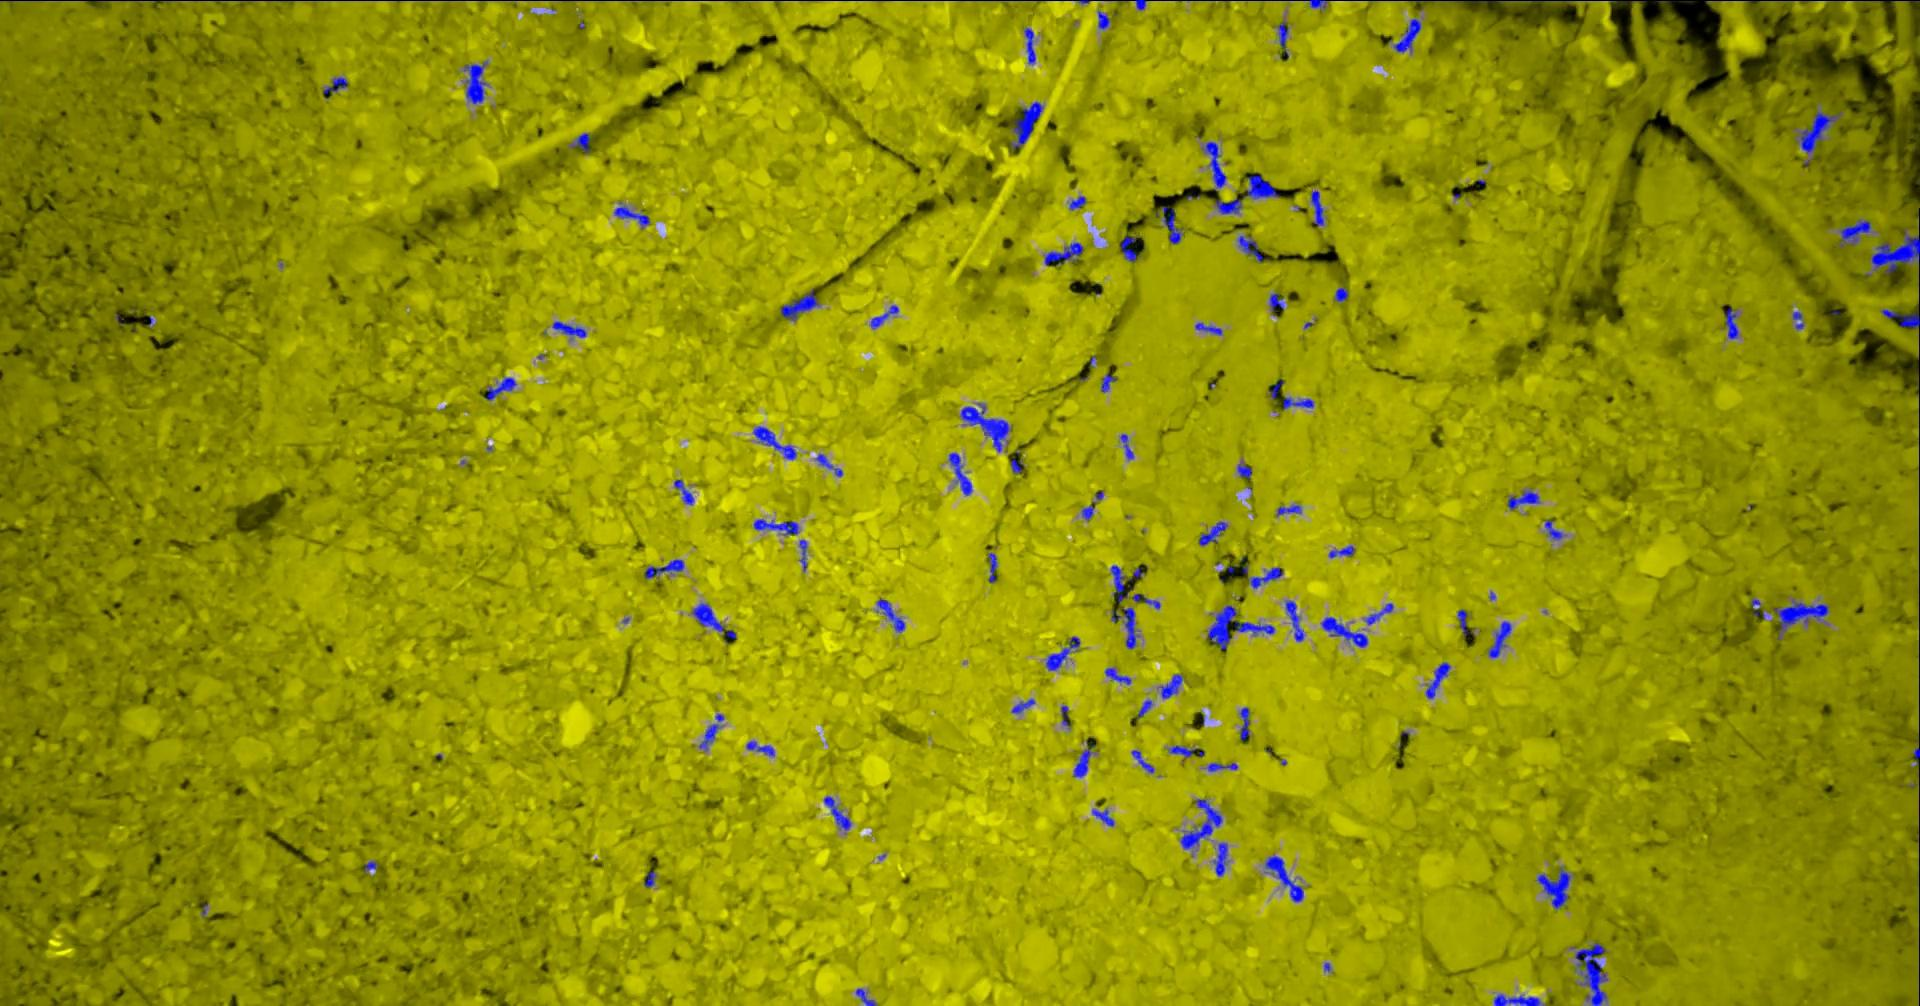ant: (1209, 605, 1276, 649), (963, 401, 1011, 451), (1775, 600, 1830, 639), (1873, 229, 1920, 273), (1182, 798, 1223, 848), (1576, 942, 1609, 1005), (1266, 855, 1305, 901), (1801, 111, 1843, 152), (1011, 102, 1044, 147), (695, 603, 738, 638), (1322, 616, 1369, 647), (1538, 868, 1572, 908), (756, 426, 797, 459), (782, 288, 820, 320), (1112, 607, 1140, 648), (1204, 141, 1227, 191), (1048, 636, 1081, 669), (950, 452, 974, 495), (466, 61, 489, 103), (877, 600, 905, 633), (825, 795, 852, 829), (615, 202, 651, 226), (1427, 662, 1451, 699), (701, 713, 725, 749), (1396, 18, 1422, 51), (1046, 243, 1084, 265), (1244, 174, 1280, 198), (1841, 218, 1872, 246), (1490, 621, 1512, 657), (1250, 567, 1285, 588), (1112, 565, 1133, 602), (1288, 600, 1305, 641), (1163, 205, 1182, 243), (1882, 309, 1920, 328), (646, 559, 684, 578), (1076, 741, 1095, 777), (488, 377, 518, 400), (756, 518, 800, 533), (1200, 521, 1228, 545), (1239, 235, 1263, 262), (872, 305, 900, 328), (817, 453, 844, 476), (1366, 602, 1396, 624), (1509, 490, 1542, 509), (1161, 674, 1183, 699), (324, 76, 349, 98), (1495, 993, 1542, 1005), (554, 321, 588, 337), (1133, 749, 1156, 772), (1215, 842, 1230, 876), (1121, 236, 1142, 260), (676, 479, 695, 504), (1025, 28, 1037, 64), (1312, 191, 1324, 225), (1106, 667, 1131, 683), (1217, 198, 1243, 213), (1134, 593, 1161, 608), (748, 741, 776, 754), (1726, 307, 1738, 338), (1093, 808, 1115, 826), (1170, 746, 1206, 756), (1284, 396, 1316, 408), (1545, 520, 1564, 539), (573, 133, 590, 152), (1330, 545, 1356, 558), (1241, 708, 1251, 741), (857, 988, 877, 1005), (1197, 323, 1223, 335), (1013, 699, 1036, 713), (1102, 373, 1119, 392), (1123, 434, 1135, 459), (1459, 608, 1470, 635), (1277, 504, 1303, 516), (1279, 22, 1289, 50), (1914, 733, 1920, 777), (1139, 699, 1154, 716), (1209, 762, 1239, 771), (1271, 292, 1285, 311), (1271, 379, 1285, 398), (1083, 500, 1097, 520), (1752, 600, 1766, 619), (990, 553, 999, 582), (1098, 10, 1111, 29), (1070, 196, 1087, 210), (1062, 705, 1072, 727), (1011, 459, 1026, 473), (1239, 464, 1253, 479), (801, 539, 808, 572), (1794, 311, 1804, 329), (1336, 287, 1349, 301), (1310, 0, 1330, 9), (646, 871, 657, 887), (1519, 0, 1573, 1)
